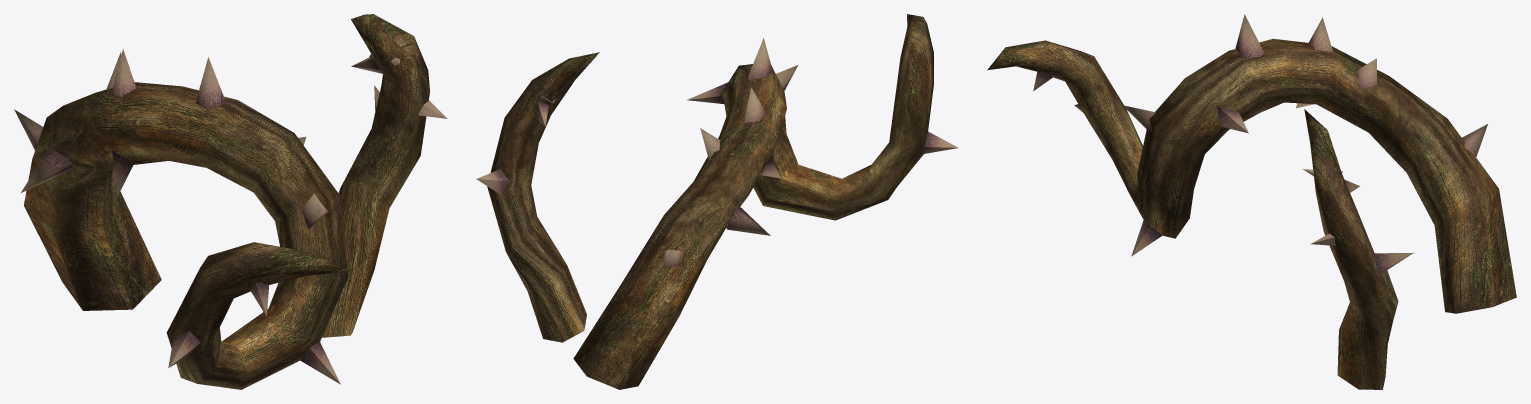
Rendered from obj_mtthund_thorn05.fbx.
3 renders of one model, left to right at view 1: azimuth 30°, elevation 25°; view 2: azimuth 150°, elevation 25°; view 3: azimuth 270°, elevation 25°, orthographic. The views are drawn at different scales.
Visible parts, largest first — view 1: obj_mtthund_thorn05; view 2: obj_mtthund_thorn05; view 3: obj_mtthund_thorn05.
Boxes of the visible parts, x1,y1,x2,y2 form: obj_mtthund_thorn05: [14, 14, 447, 389]; obj_mtthund_thorn05: [476, 14, 958, 389]; obj_mtthund_thorn05: [987, 14, 1516, 389].
Size of the model in its own units: 10.95 by 9.3 by 14.94.
